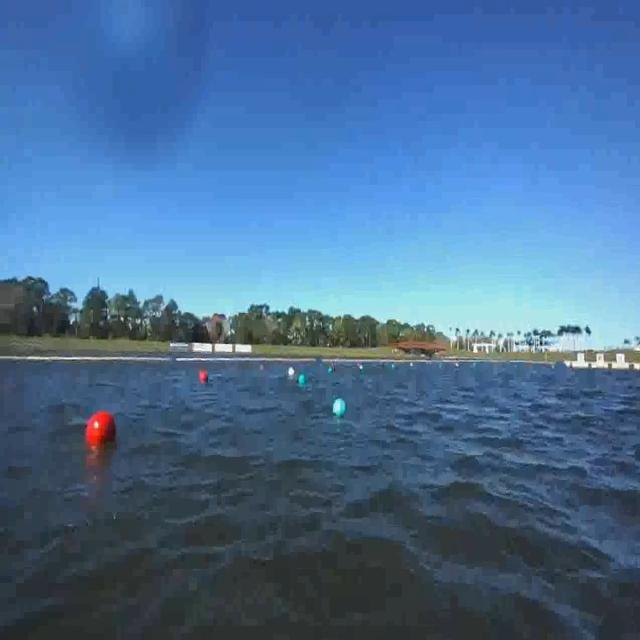green-buoy: (334, 396, 348, 421), (297, 374, 305, 388)
red-buoy: (88, 410, 120, 447), (200, 370, 210, 385)
